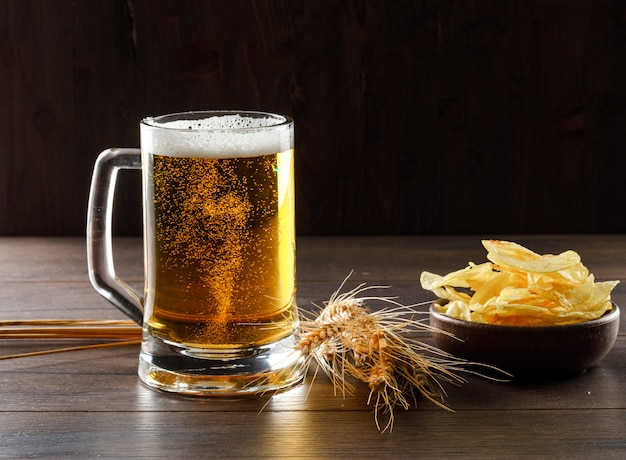alcohol: (85, 109, 310, 399)
